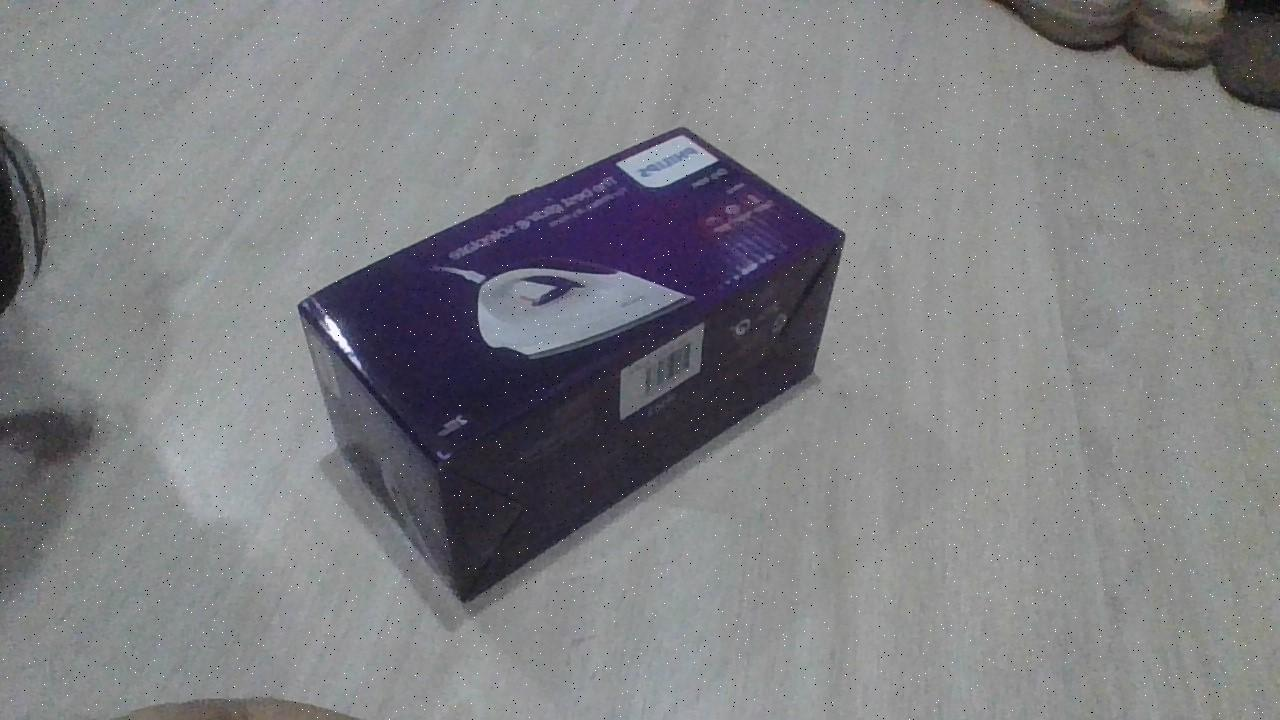IRON: (295, 122, 850, 610)
